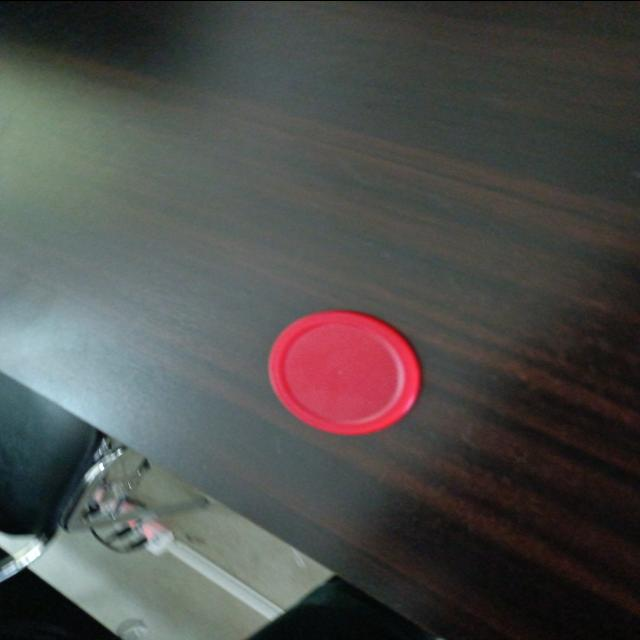chip: (264, 306, 422, 436)
